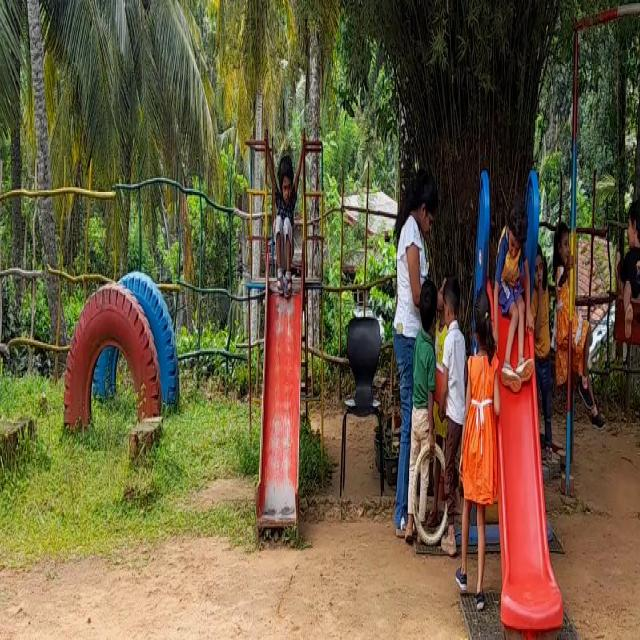adult: (393, 168, 419, 505)
child: (497, 205, 542, 399), (467, 278, 495, 587), (411, 284, 439, 532), (616, 203, 640, 374), (271, 149, 298, 285)
